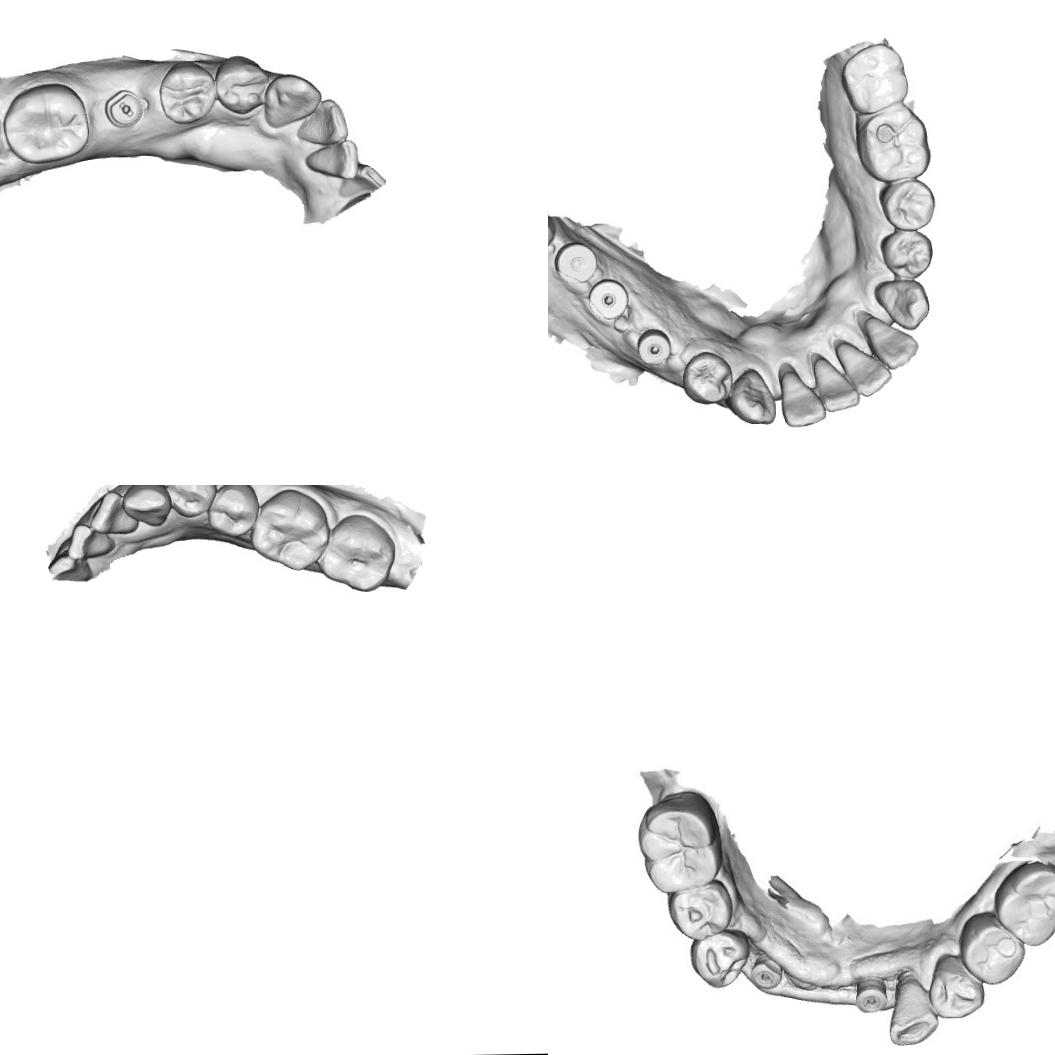canine: (886, 970, 936, 1048), (262, 72, 324, 130), (873, 278, 934, 330), (728, 368, 776, 426), (121, 485, 171, 524)
implant: (552, 240, 598, 286), (586, 277, 630, 321), (636, 328, 672, 366), (855, 974, 887, 1016)
implant_minus: (102, 87, 149, 132), (751, 956, 781, 996)
incisor: (863, 316, 920, 370), (778, 370, 826, 429), (843, 344, 893, 398), (296, 96, 351, 145), (813, 357, 860, 412), (302, 138, 360, 181), (85, 488, 131, 536), (64, 521, 114, 560), (338, 162, 387, 201)
molar: (636, 788, 720, 894), (0, 81, 92, 165), (250, 489, 328, 573), (318, 512, 396, 595), (856, 109, 932, 182), (997, 860, 1055, 950), (839, 41, 910, 114)
premolar: (955, 909, 1029, 988), (926, 948, 987, 1020), (666, 880, 736, 942), (158, 60, 218, 124), (688, 930, 750, 990), (213, 53, 272, 116), (681, 349, 734, 406), (879, 179, 936, 231), (207, 485, 262, 536), (879, 229, 933, 279), (166, 485, 215, 517)
